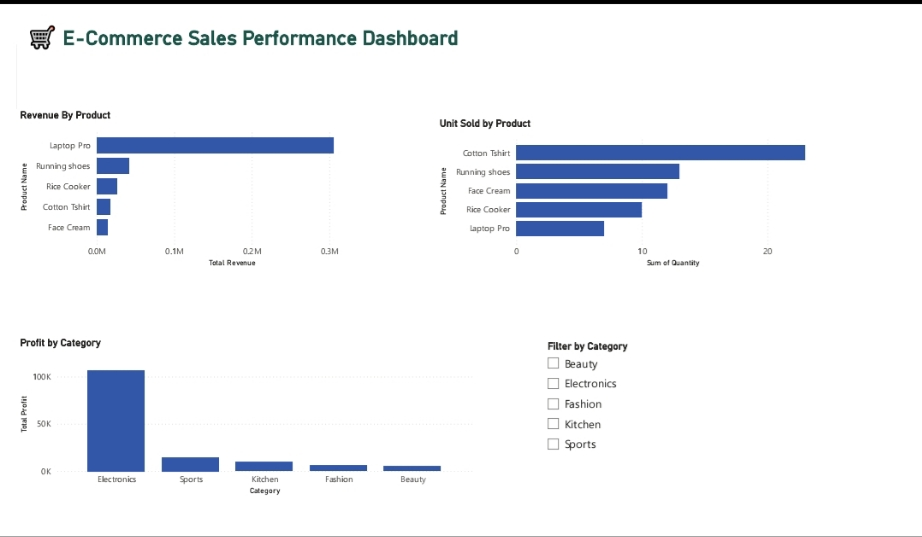

The page's visual inventory and layout, read from the dashboard file:
{"tool":"powerbi","page":{"name":"Product Analysis","canvas":[1280,720],"ordinal":1},"visuals":[{"type":"textbox","title":"🛒 E-Commerce Sales Performance Dashboard","box":[10.1,0,777.6,80.6],"z":0},{"type":"clusteredBarChart","title":"Revenue By Product","fields":{"Category":["Cleaned.Product Name"],"Y":["Cleaned.Total Revenue"]},"box":[0,128.2,524.2,231.8],"z":1000},{"type":"clusteredColumnChart","title":"Profit by Category","fields":{"Category":["ProductDB.Category"],"Y":["Cleaned.Total Profit"]},"box":[0,456.5,659.5,231.8],"z":2000},{"type":"clusteredBarChart","title":"Unit Sold by Product ","fields":{"Category":["ProductDB.Product Name"],"Y":["Sum(Cleaned.Quantity)"]},"box":[603.4,139.7,577.4,220.3],"z":3000},{"type":"slicer","fields":{"Values":["ProductDB.Category"]},"box":[750.2,456.5,375.8,193],"z":4000}]}

Visuals, with their boxes on the page's 1280x720 design canvas (x1, y1, x2, y2). These are canvas units, not pixel positions in the 922x537 screenshot, which may show the page scaled, cropped or inside an application window:
"🛒 E-Commerce Sales Performance Dashboard" textbox: BBox(10, 0, 788, 81)
"Revenue By Product" clusteredBarChart: BBox(0, 128, 524, 360)
"Profit by Category" clusteredColumnChart: BBox(0, 456, 660, 688)
"Unit Sold by Product " clusteredBarChart: BBox(603, 140, 1181, 360)
slicer - ProductDB.Category: BBox(750, 456, 1126, 650)
